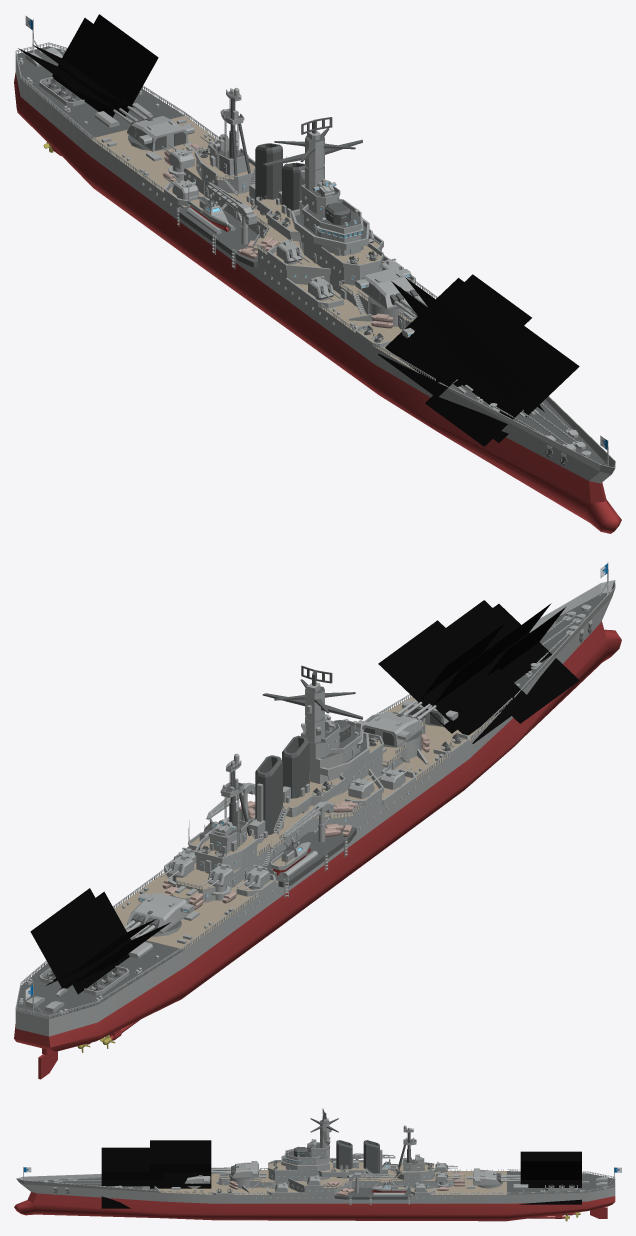
3 views of the same model, one above another, from view 1: azimuth 30°, elevation 25°; view 2: azimuth 150°, elevation 25°; view 3: azimuth 270°, elevation 25° (orthographic). The views are drawn at different scales.
Visible parts, largest first — view 1: Main_Hull, Blast_Image (×6), MainTower, UpLayer_Deck, Deck_Decoration, Secondary_Tower, Turret_C, Turret_B, Partol_Boat_1; view 2: Main_Hull, Blast_Image (×6), MainTower, UpLayer_Deck, Deck_Decoration, Secondary_Tower, Turret_C, Turret_B, Partol_Boat_1; view 3: Main_Hull, Blast_Image (×6), MainTower, UpLayer_Deck, Deck_Decoration, Secondary_Tower, Turret_B, Turret_C, Partol_Boat_2, Crene_Port, Turret_A.
Boxes of the visible parts, box(x1,y1,x2,y2) form: Main_Hull: box(14, 46, 621, 533); Blast_Image (×6): box(18, 14, 579, 446); MainTower: box(249, 128, 383, 285); UpLayer_Deck: box(128, 135, 417, 329); Deck_Decoration: box(15, 19, 615, 474); Secondary_Tower: box(194, 87, 255, 196); Turret_C: box(127, 116, 194, 151); Turret_B: box(355, 268, 422, 309); Partol_Boat_1: box(188, 176, 228, 231); Main_Hull: box(14, 592, 621, 1054); Blast_Image (×6): box(30, 600, 579, 994); MainTower: box(249, 679, 383, 838); UpLayer_Deck: box(129, 715, 438, 936); Deck_Decoration: box(15, 562, 615, 1018); Secondary_Tower: box(194, 753, 262, 873); Turret_C: box(127, 892, 194, 933); Turret_B: box(357, 711, 422, 747); Partol_Boat_1: box(270, 838, 310, 875); Main_Hull: box(14, 1171, 615, 1221); Blast_Image (×6): box(101, 1140, 581, 1208); MainTower: box(268, 1117, 387, 1180); UpLayer_Deck: box(187, 1159, 502, 1196); Deck_Decoration: box(16, 1167, 615, 1194); Secondary_Tower: box(394, 1125, 434, 1180); Turret_B: box(232, 1161, 258, 1178); Turret_C: box(473, 1168, 499, 1185); Partol_Boat_2: box(371, 1175, 407, 1192); Crene_Port: box(349, 1172, 395, 1180); Turret_A: box(184, 1175, 210, 1183).
Bounding box in the file's own units: 30.62 × 52.73 × 273.
Materials: 10 (1 with a texture image).
